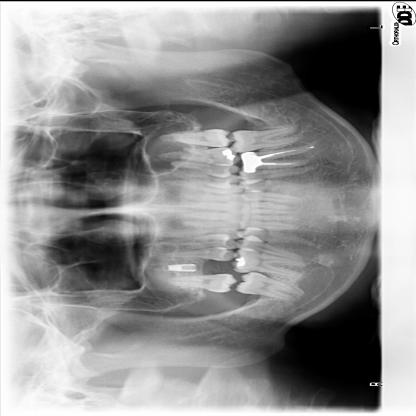Bicon: (164, 262, 198, 272)
